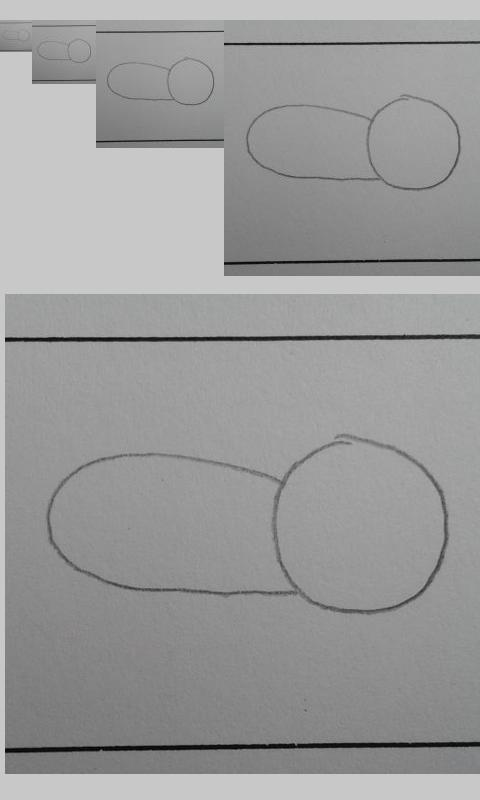switch: (47, 433, 449, 618), (246, 93, 463, 191), (105, 57, 215, 106), (37, 38, 92, 64), (1, 29, 31, 42)
